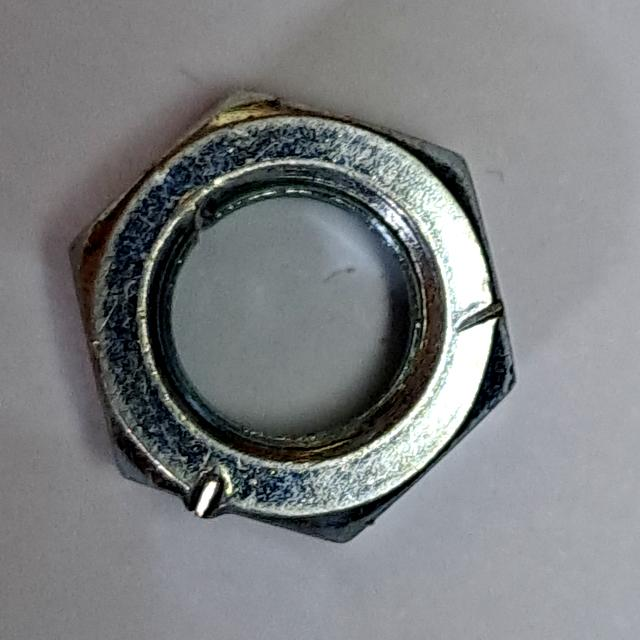Scratches: (62, 77, 532, 558)
